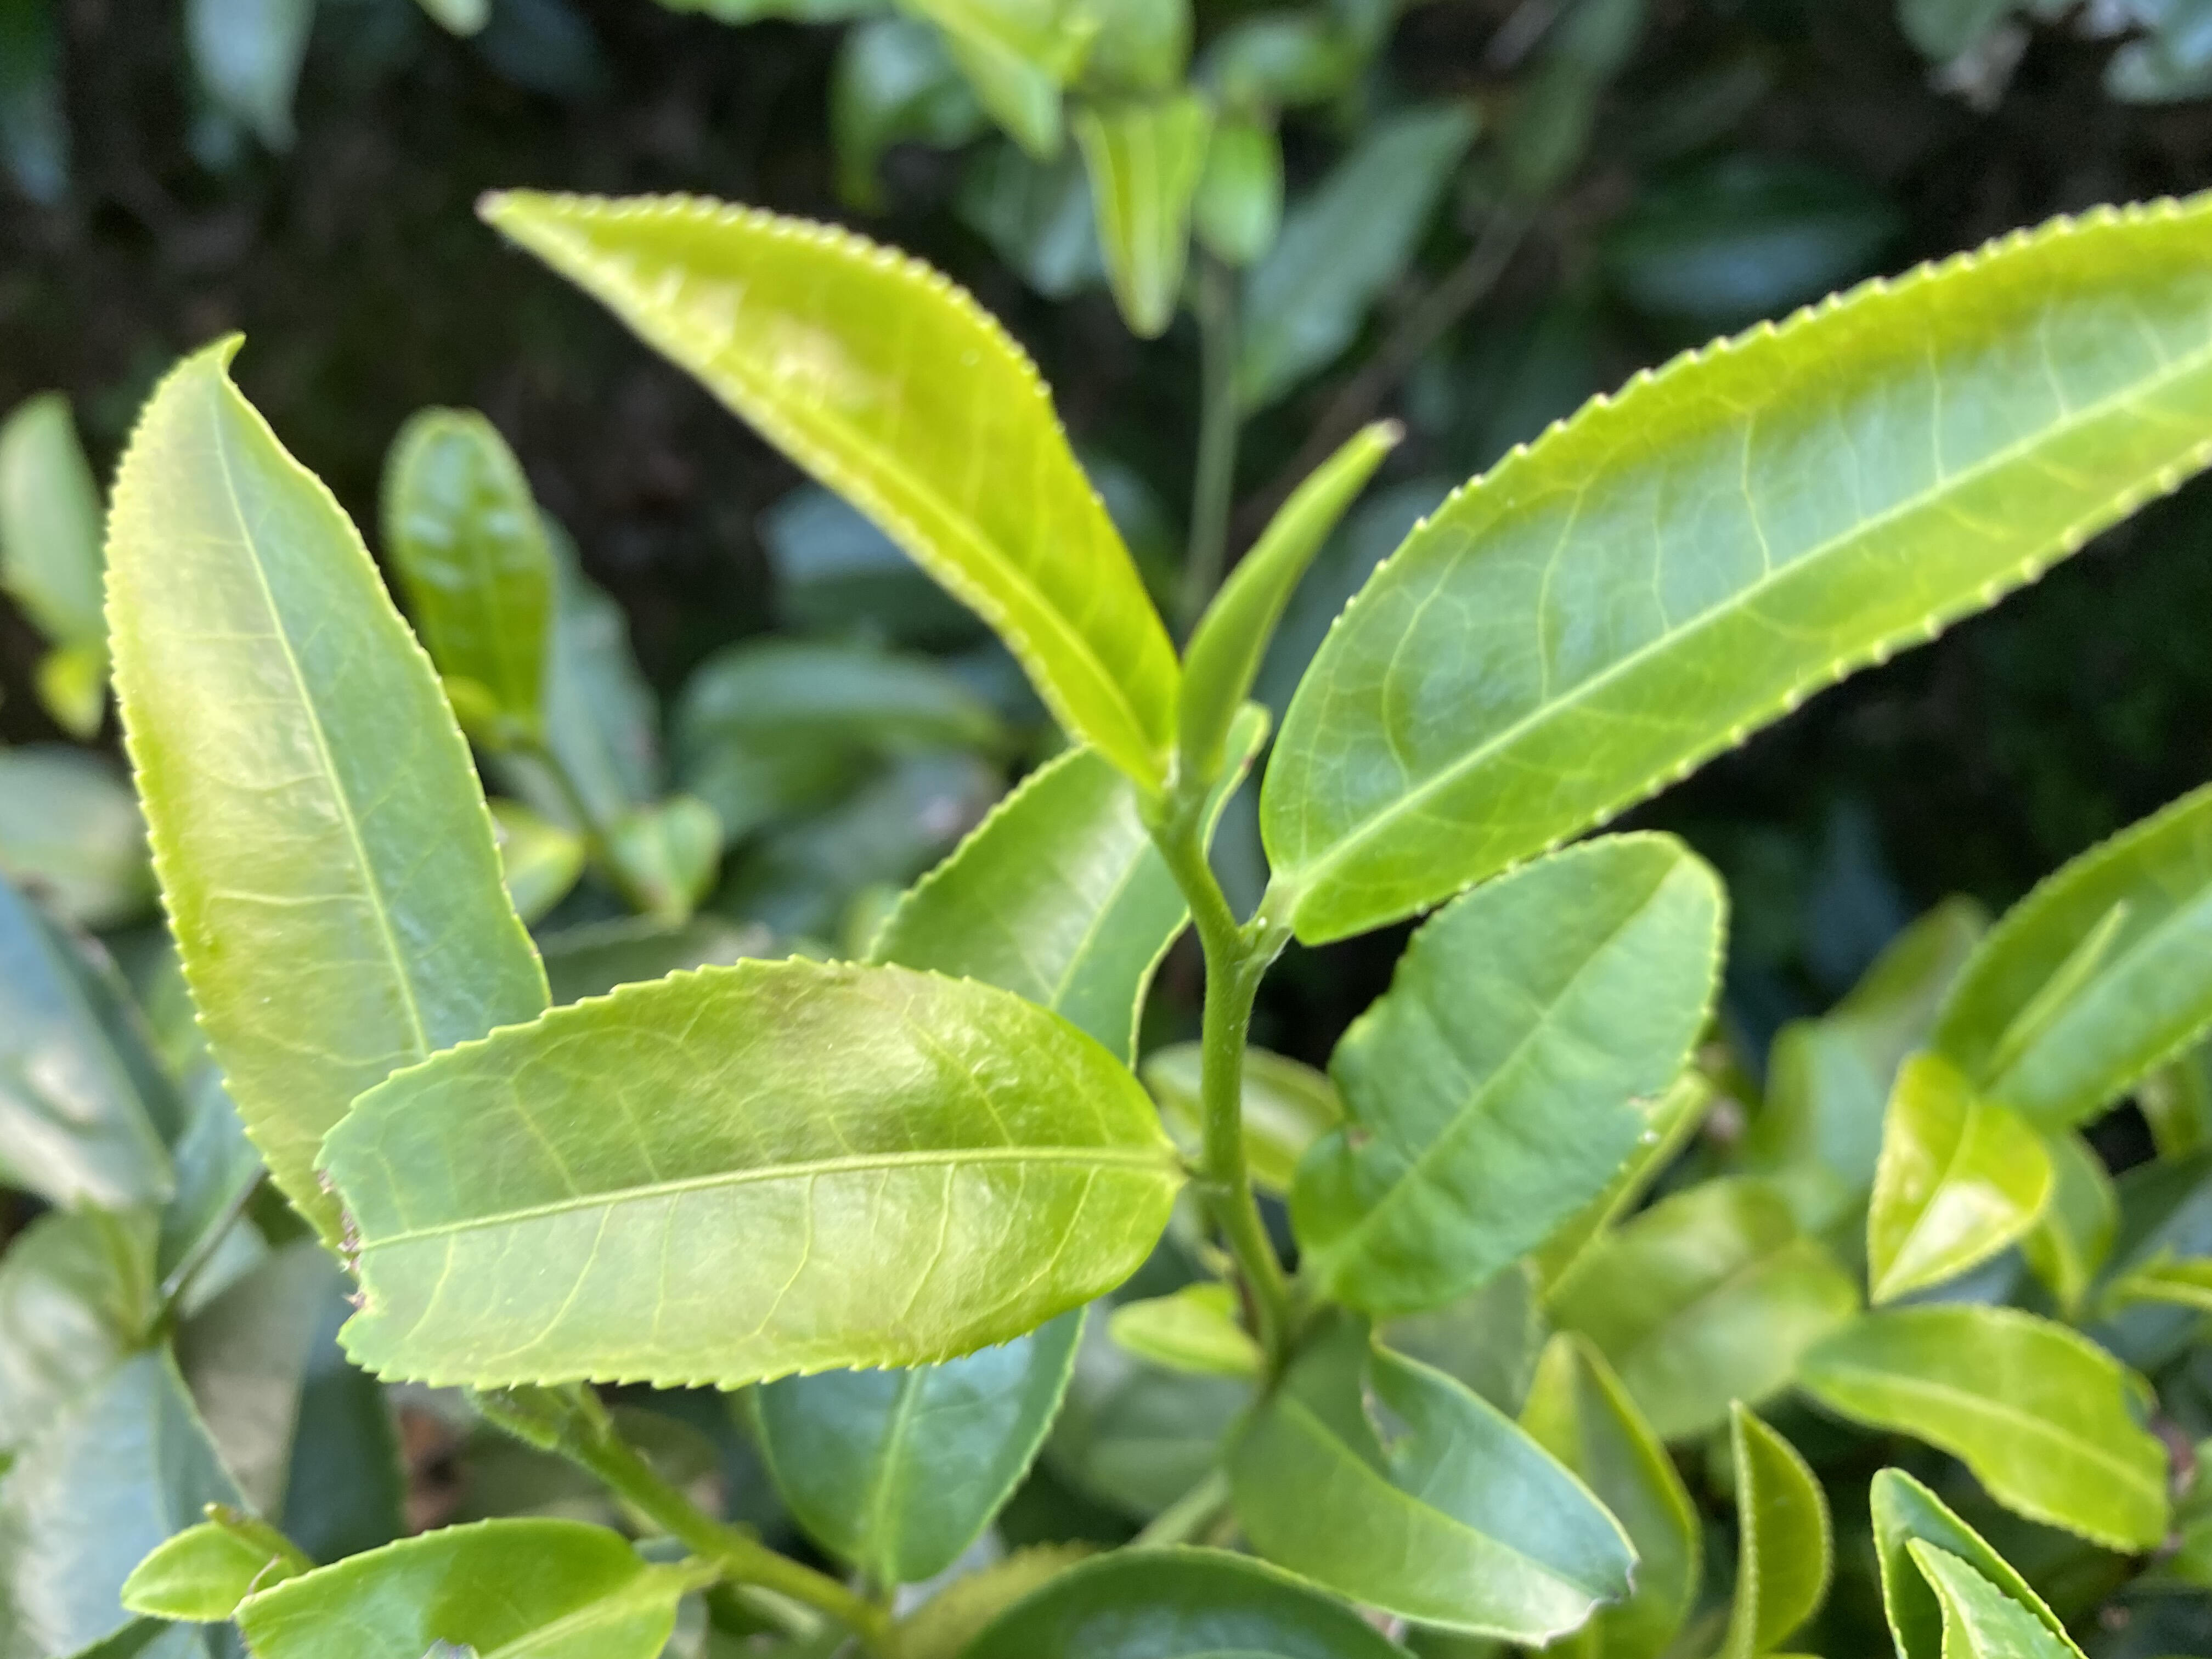chihuo_low: (307, 953, 1184, 1398)
healthy: (1258, 190, 2210, 950), (472, 181, 1179, 777), (98, 335, 556, 1173)
